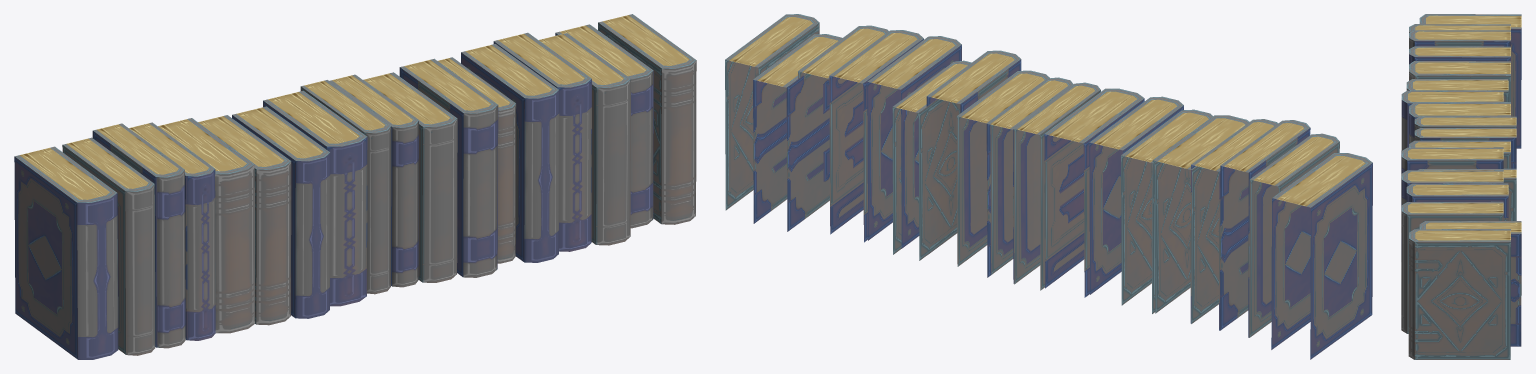
File: BookGroup_Medium_2.fbx
3 renders of one model, left to right at view 1: azimuth 30°, elevation 25°; view 2: azimuth 150°, elevation 25°; view 3: azimuth 270°, elevation 25°, orthographic. The views are drawn at different scales.
Parts seen in each view (by area): view 1: BookGroup_Medium_2; view 2: BookGroup_Medium_2; view 3: BookGroup_Medium_2.
Part boxes in pixels (x1=…): BookGroup_Medium_2: x1=14, y1=14, x2=696, y2=359; BookGroup_Medium_2: x1=725, y1=14, x2=1372, y2=359; BookGroup_Medium_2: x1=1401, y1=14, x2=1521, y2=359.
Bounding box in the file's own units: 110 × 29.49 × 24.75.
